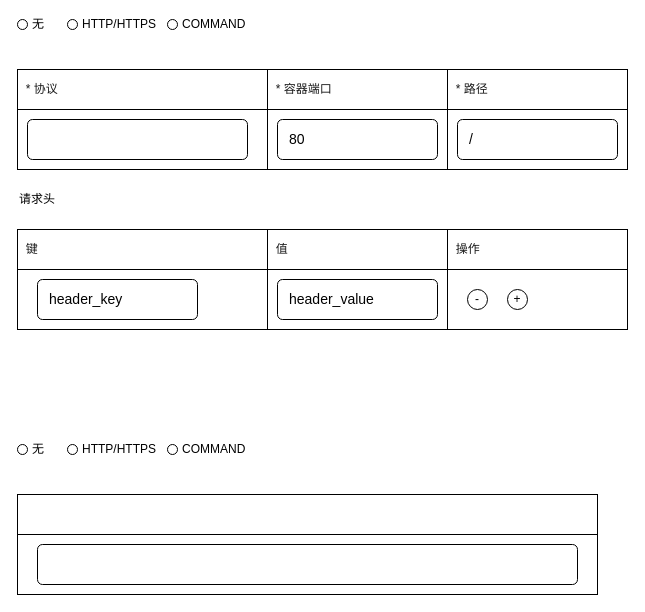
Image size: 645x612. Some labels were removed from this diagram. Each missing label, with the centre of its shape:
"* 命令（多个命令以空格隔开）" goes at [307,514].
"/bin/unregister.sh jsf" goes at [307,564].
"HTTP" goes at [137,139].
